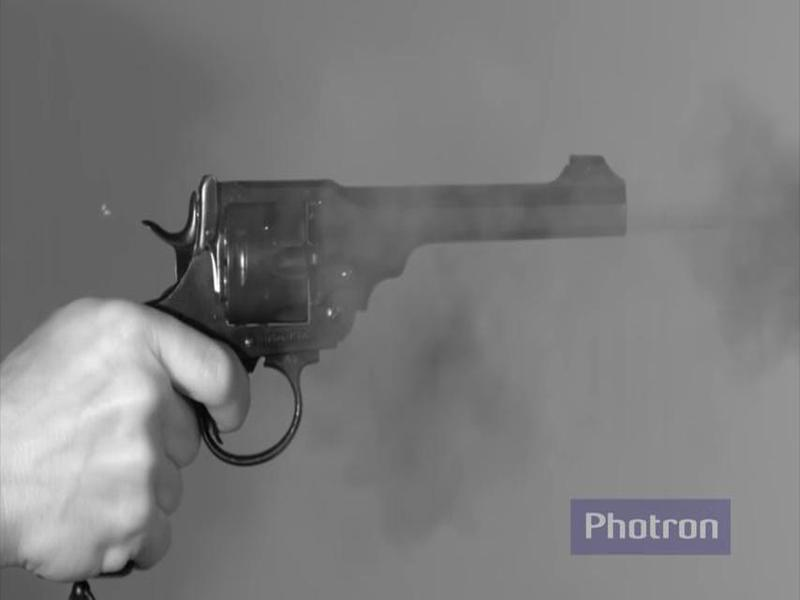Revolver: (125, 145, 649, 476)
